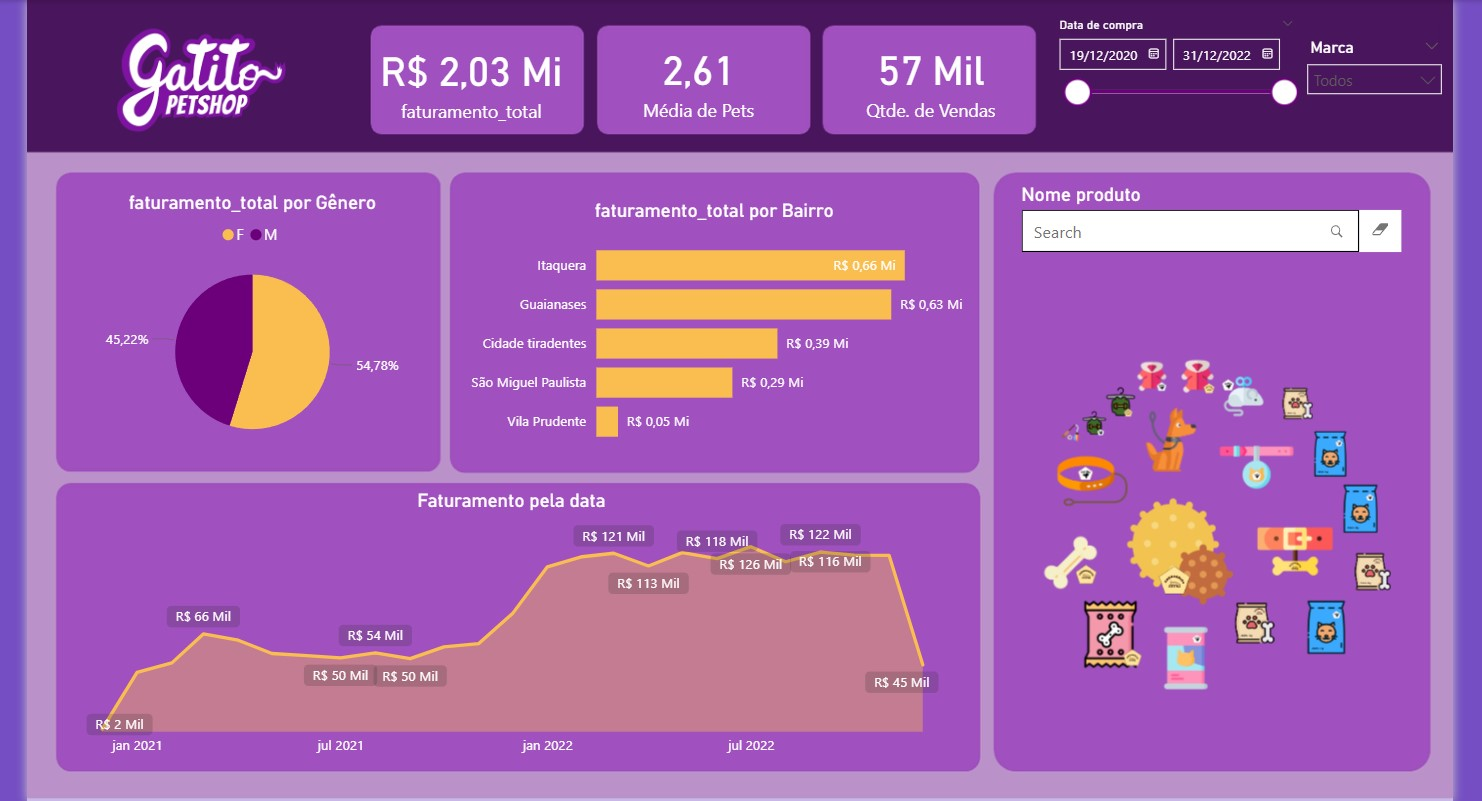

What the dashboard file says about the page in this screenshot:
{"tool":"powerbi","page":{"name":"Página 1","canvas":[1280,720],"ordinal":0},"visuals":[{"type":"card","fields":{"Values":["Avg(Clientes.Pets)"]},"box":[527.2,24.3,151.7,92.4],"z":0},{"type":"card","fields":{"Values":["Sum(Vendas.Quantidade)"]},"box":[720.7,10.7,180.9,119.6],"z":1000},{"type":"card","fields":{"Values":["Vendas.faturamento_total"]},"box":[279.1,29.2,239.3,83.6],"z":2000},{"type":"pieChart","fields":{"Category":["Clientes.Gênero"],"Y":["Vendas.faturamento_total"]},"box":[39.9,171.2,325.8,241.2],"z":4000},{"type":"clusteredBarChart","fields":{"Category":["Clientes.Bairro"],"Y":["Vendas.faturamento_total"]},"box":[385.2,179,464,233.4],"z":5000},{"type":"areaChart","title":"Faturamento pela data ","fields":{"Category":["Vendas.Data de compra.Variation.Hierarquia de datas.Ano","Vendas.Data de compra.Variation.Hierarquia de datas.Trimestre","Vendas.Data de compra.Variation.Hierarquia de datas.Mês","Vendas.Data de compra.Variation.Hierarquia de datas.Dia"],"Y":["Vendas.faturamento_total"]},"box":[39.9,438.7,790.8,248],"z":6000},{"type":"ImageGrid_FC5183B9_926C_45E0_B5F7_0CE9EAF1DA9B","fields":{"ImageURL":["Produtos.Url img"]},"box":[888,265.5,362.8,410.5],"z":7000},{"type":"textFilter25A4896A83E0487089E2B90C9AE57C8A","fields":{"field":["Produtos.Nome produto"]},"box":[888,164.4,351.1,85.6],"z":8000},{"type":"slicer","fields":{"Values":["Produtos.Marca"]},"box":[1139,29.2,141,82.7],"z":9000},{"type":"slicer","fields":{"Values":["Vendas.Data de compra"]},"box":[914.3,10.7,235.4,124.5],"z":10000}]}

Visuals, with their boxes on the page's 1280x720 design canvas (x1, y1, x2, y2). These are canvas units, not pixel positions in the 1482x801 screenshot, which may show the page scaled, cropped or inside an application window:
card - Avg(Clientes.Pets): bbox=[527, 24, 679, 117]
card - Sum(Vendas.Quantidade): bbox=[721, 11, 902, 130]
card - Vendas.faturamento_total: bbox=[279, 29, 518, 113]
pieChart - Clientes.Gênero x Vendas.faturamento_total: bbox=[40, 171, 366, 412]
clusteredBarChart - Clientes.Bairro x Vendas.faturamento_total: bbox=[385, 179, 849, 412]
"Faturamento pela data " areaChart: bbox=[40, 439, 831, 687]
ImageGrid_FC5183B9_926C_45E0_B5F7_0CE9EAF1DA9B - Produtos.Url img: bbox=[888, 266, 1251, 676]
textFilter25A4896A83E0487089E2B90C9AE57C8A - Produtos.Nome produto: bbox=[888, 164, 1239, 250]
slicer - Produtos.Marca: bbox=[1139, 29, 1280, 112]
slicer - Vendas.Data de compra: bbox=[914, 11, 1150, 135]
